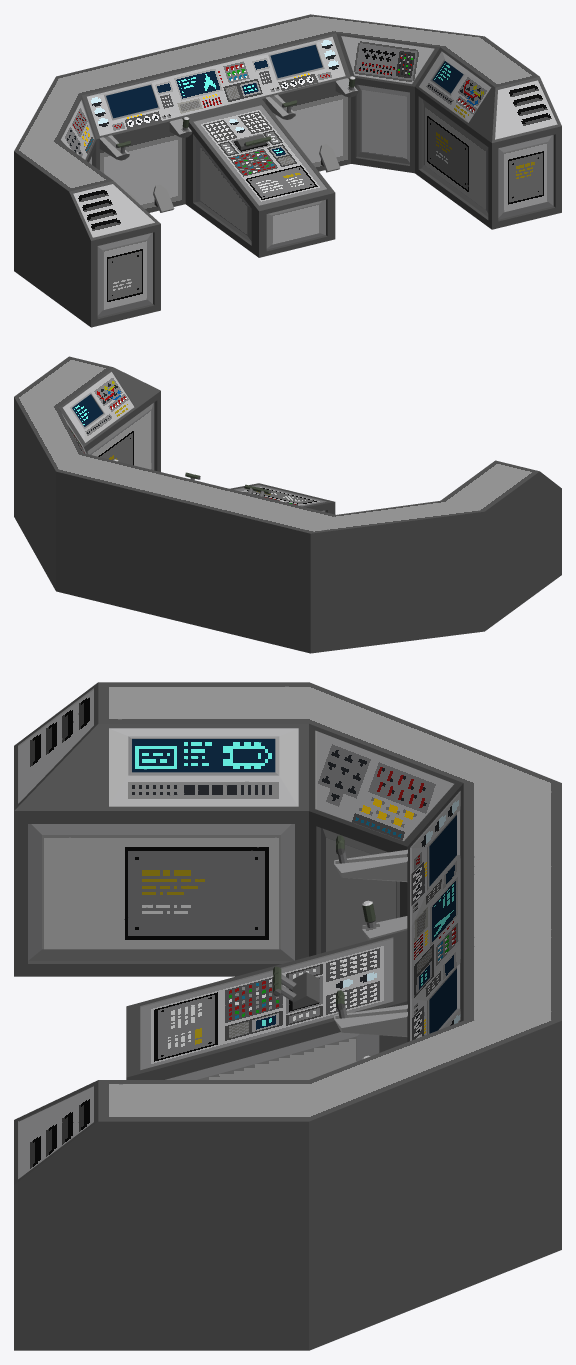
File: ShipControls.gltf
3 renders of one model, top to bottom at view 1: azimuth 30°, elevation 25°; view 2: azimuth 150°, elevation 25°; view 3: azimuth 270°, elevation 25°, orthographic. The views are drawn at different scales.
Visible parts, largest first — view 1: Controls, Interactable, mesh (×4); view 2: Controls; view 3: Controls, Interactable, mesh (×2), cylinder.
Part boxes in pixels (<box>): Controls: <box>14,14,561,327</box>; Interactable: <box>82,33,350,139</box>; mesh (×4): <box>99,94,340,212</box>; Controls: <box>14,356,561,653</box>; Controls: <box>14,682,561,1350</box>; Interactable: <box>407,783,463,1041</box>; mesh (×2): <box>334,849,407,1036</box>; cylinder: <box>273,966,319,1009</box>.
Size of the model in its own units: 4.62 by 1.12 by 2.44.
1 material, 1 textured.
